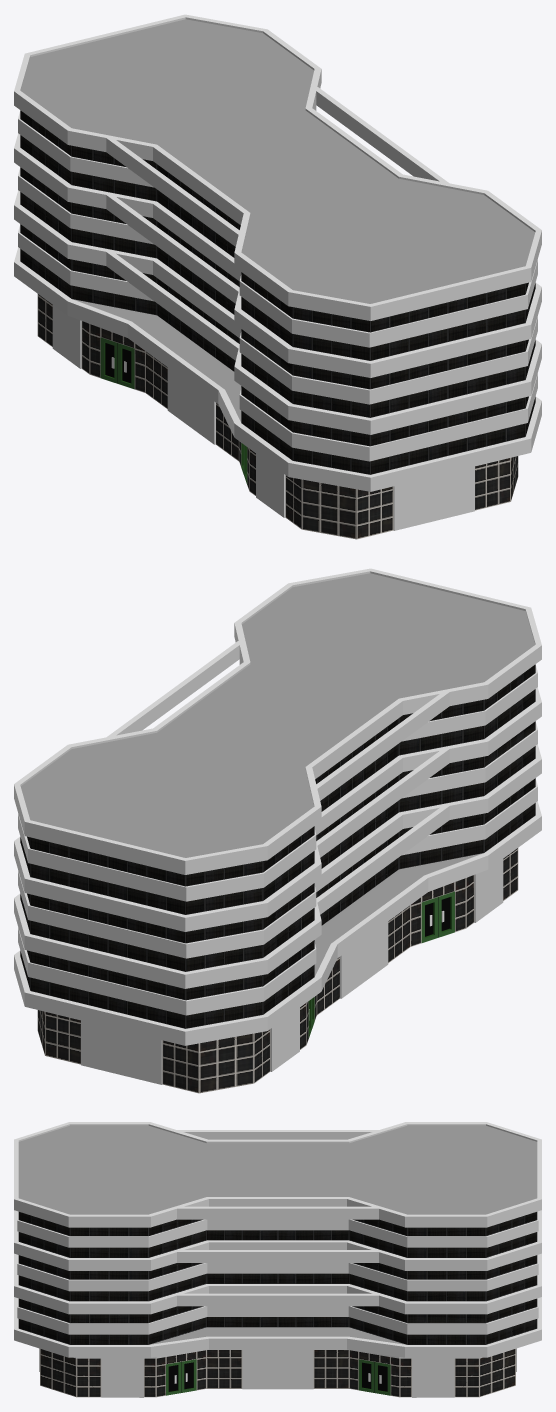
The picture shows the model from 3 angles, top to bottom: view 1: azimuth 30°, elevation 25°; view 2: azimuth 150°, elevation 25°; view 3: azimuth 270°, elevation 25°; orthographic projection. The views are drawn at different scales.
Visible parts, largest first — view 1: MB-08; view 2: MB-08; view 3: MB-08.
Boxes of the visible parts, box(x1,y1,x2,y2) form: MB-08: box(14, 14, 541, 539); MB-08: box(14, 568, 541, 1093); MB-08: box(14, 1122, 541, 1397).
Size of what is drawn, in the model's own units: 15.54 by 14.38 by 36.69.
